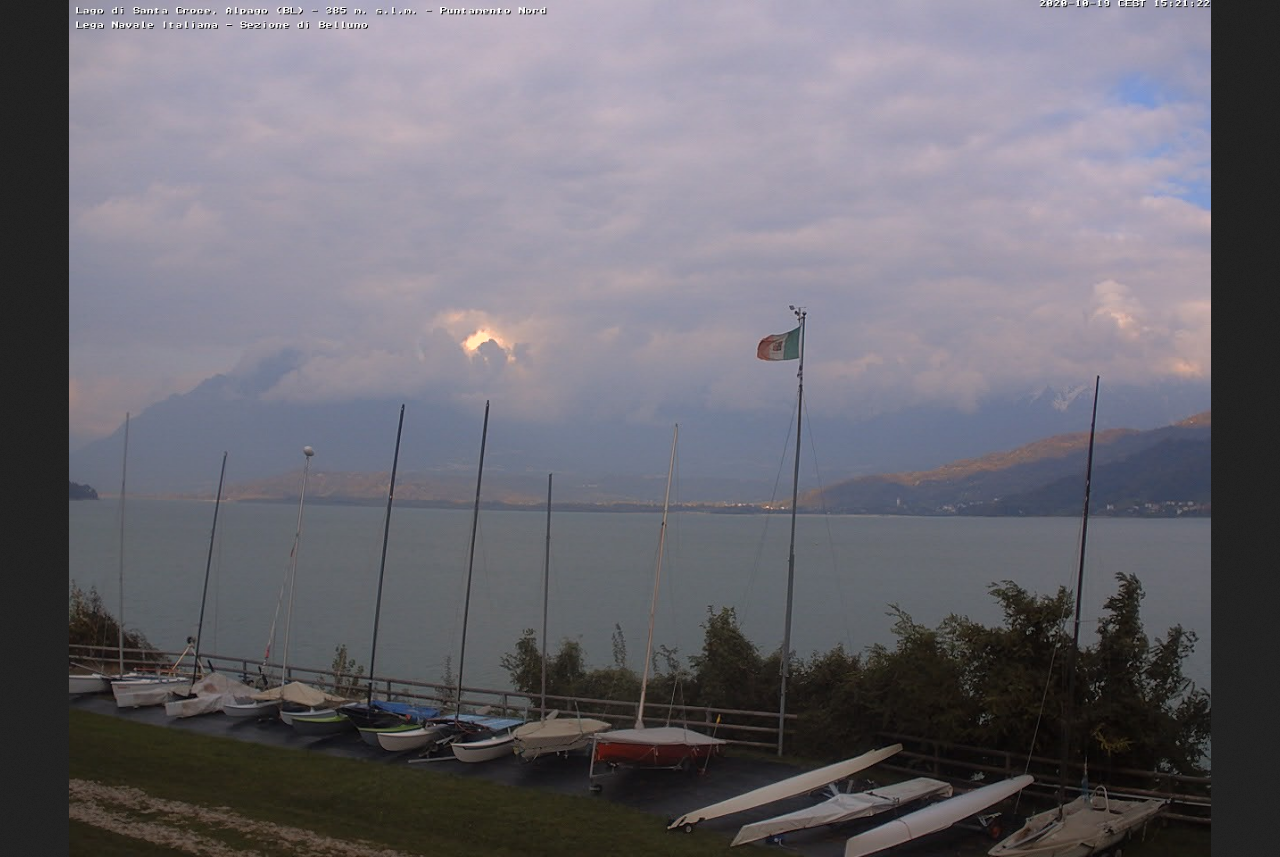yes: (752, 329, 800, 365)
